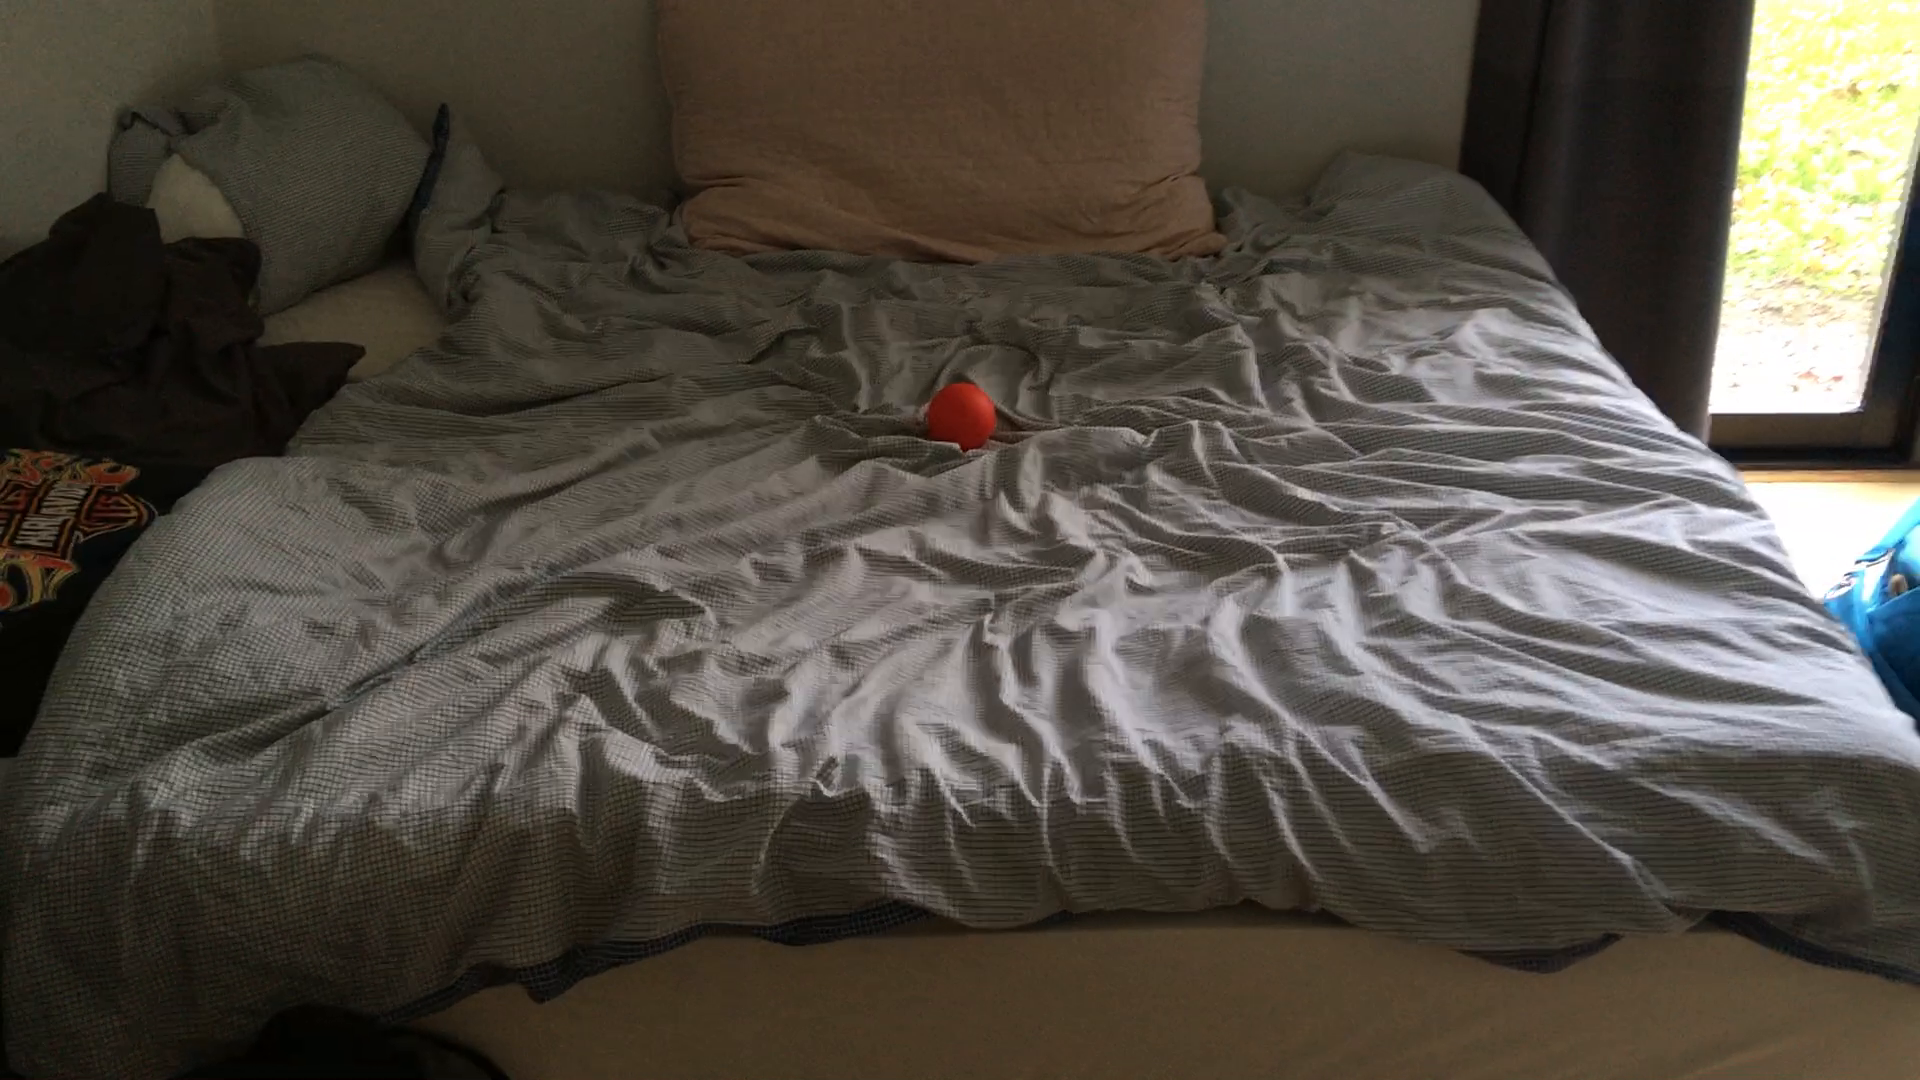Ball: (924, 382, 996, 446)
